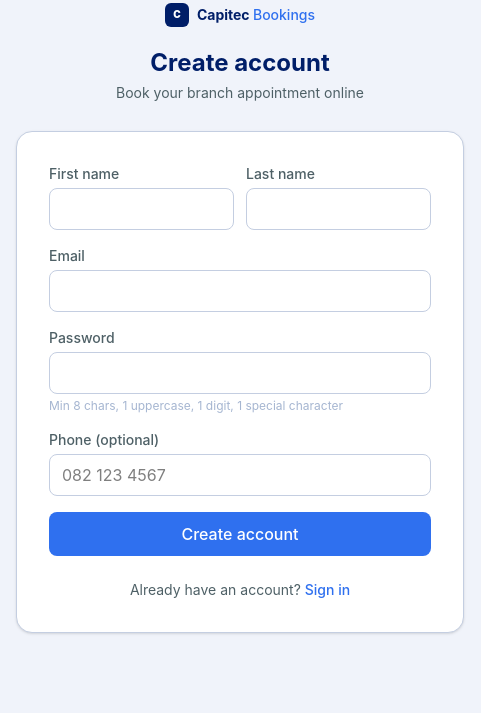
Test: RegisterPage › shows error on registration failure
Type "Existing" into the field labelled "First name" at (142, 208), box [49, 188, 234, 230]
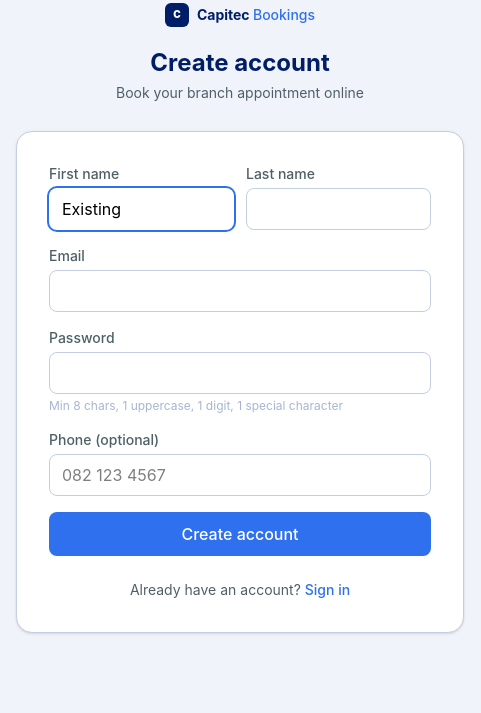
Type "User" into the field labelled "Last name" at (338, 208), box [246, 188, 431, 230]
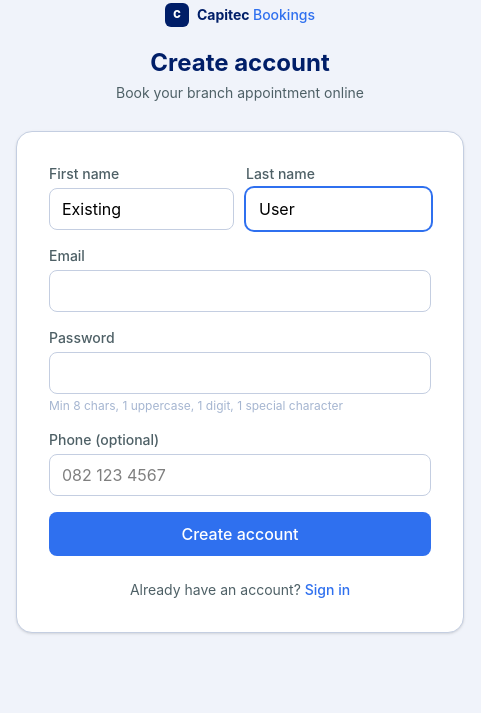
Type "existing@test.com" into the field labelled "Email" at (240, 290), box [49, 270, 431, 312]
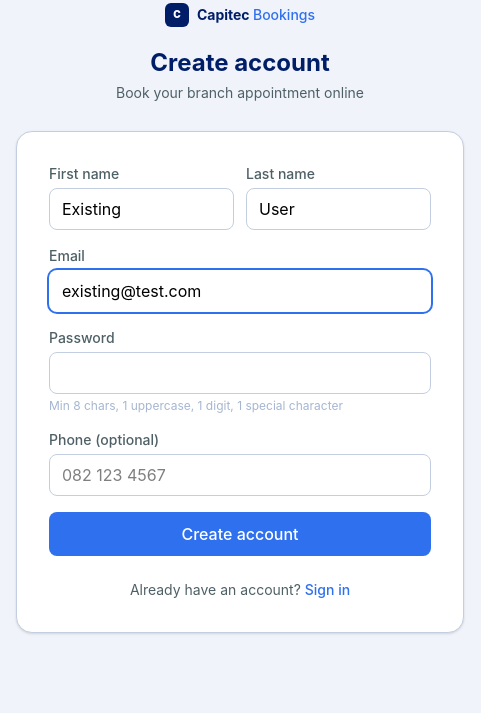
Type "Password1!" into the password field labelled "Password" at (240, 372), box [49, 352, 431, 394]
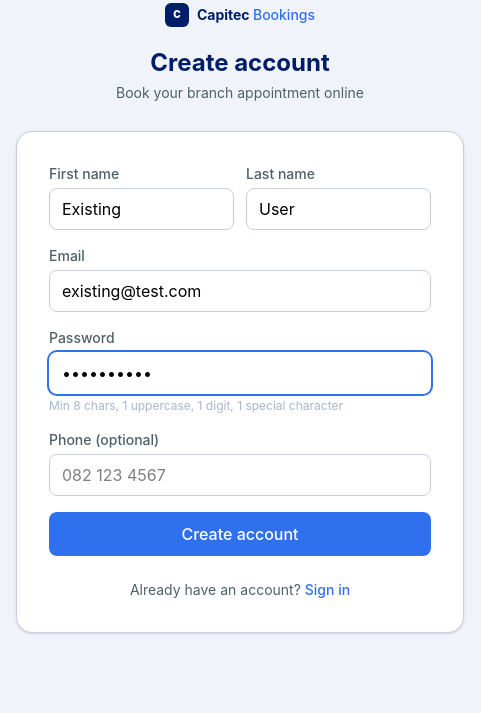
Click the button "Create account" at (240, 534), box [49, 512, 431, 556]
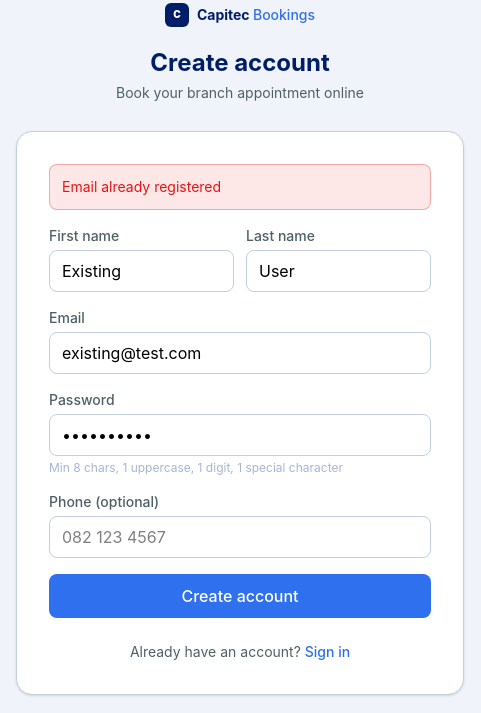
Result: the text "Email already registered" is shown at [49, 164, 431, 210]
